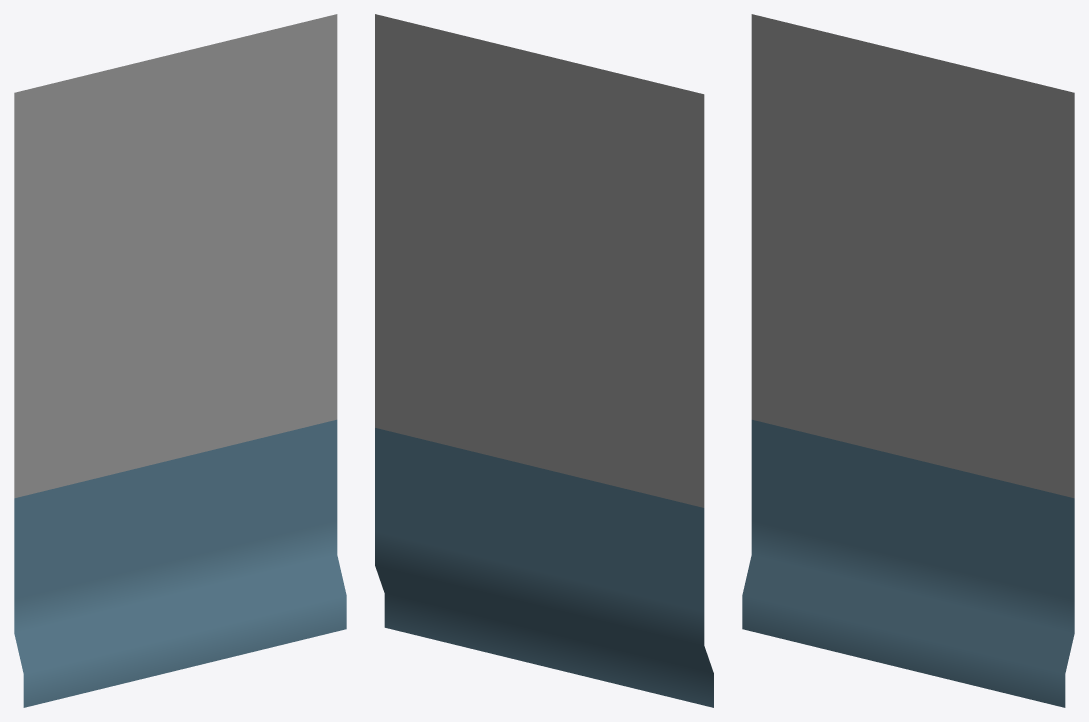
File: Mur.fbx
The picture shows the model from 3 angles, left to right: view 1: azimuth 30°, elevation 25°; view 2: azimuth 150°, elevation 25°; view 3: azimuth 330°, elevation 25°; orthographic projection. The views are drawn at different scales.
Parts seen in each view (by area): view 1: pPlane55; view 2: pPlane55; view 3: pPlane55.
Part boxes in pixels (left/top/right/bottom): pPlane55: left=14, top=14, right=346, bottom=707; pPlane55: left=375, top=14, right=713, bottom=707; pPlane55: left=742, top=14, right=1074, bottom=707.
Bounding box in the file's own units: 200 × 360 × 10.
